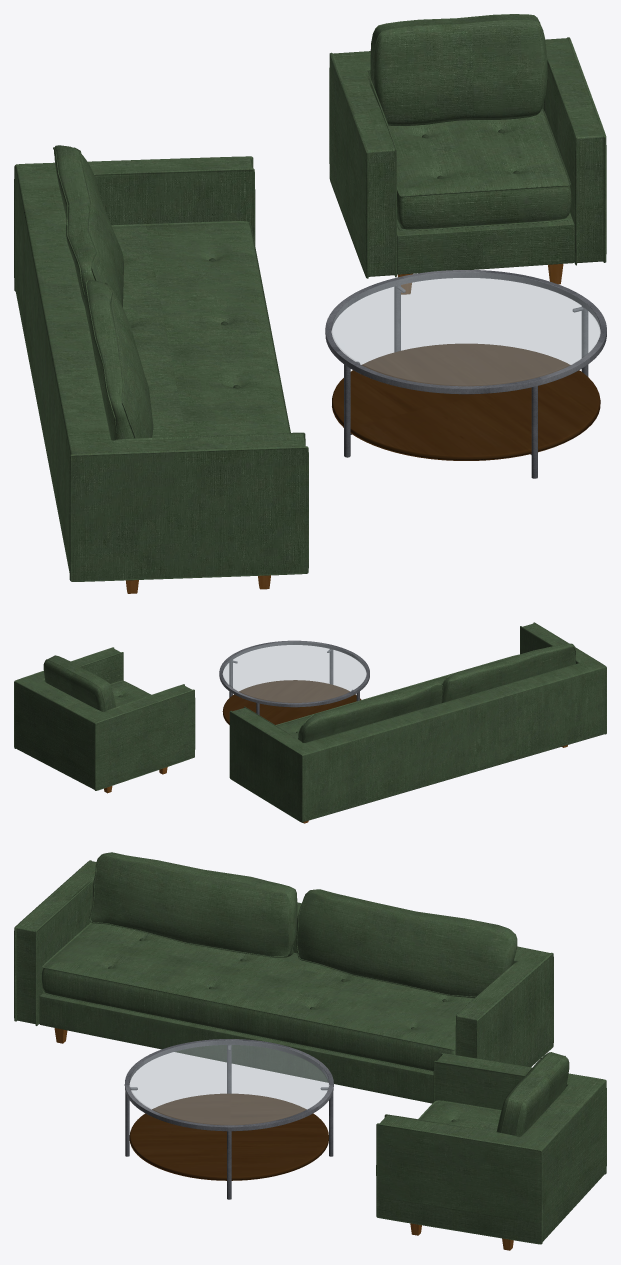
File: lounge_set.glb
3 renders of one model, top to bottom at view 1: azimuth 30°, elevation 25°; view 2: azimuth 150°, elevation 25°; view 3: azimuth 270°, elevation 25°, orthographic. The views are drawn at different scales.
Visible parts, largest first — view 1: pCube2_sofa_mat_0 (×2), pCube3_sofa_mat_0 (×2), coffeetable_toptable_mat_0, coffeetable_bottomtable_mat_0, pCube28_sofa_mat_0, coffeetable_frame_mat_0, pCube1_sofa_mat_0, pCube20_sofa_mat_0, pCube22_sofa_mat_0; view 2: pCube2_sofa_mat_0 (×2), coffeetable_toptable_mat_0, pCube22_sofa_mat_0, pCube20_sofa_mat_0, coffeetable_bottomtable_mat_0, pCube28_sofa_mat_0, coffeetable_frame_mat_0, pCube3_sofa_mat_0 (×2); view 3: pCube2_sofa_mat_0 (×2), pCube3_sofa_mat_0 (×2), pCube22_sofa_mat_0, pCube20_sofa_mat_0, coffeetable_toptable_mat_0, coffeetable_bottomtable_mat_0, pCube1_sofa_mat_0, coffeetable_frame_mat_0, pCube28_sofa_mat_0.
Part boxes in pixels (x1,y1,x2,y2): pCube2_sofa_mat_0 (×2): (14,37,606,581); pCube3_sofa_mat_0 (×2): (111,108,571,437); coffeetable_toptable_mat_0: (332,272,600,385); coffeetable_bottomtable_mat_0: (332,343,600,460); pCube28_sofa_mat_0: (370,14,547,125); coffeetable_frame_mat_0: (325,270,606,478); pCube1_sofa_mat_0: (397,212,574,274); pCube20_sofa_mat_0: (84,280,153,440); pCube22_sofa_mat_0: (53,145,123,307); pCube2_sofa_mat_0 (×2): (14,622,606,822); coffeetable_toptable_mat_0: (223,642,366,702); pCube22_sofa_mat_0: (298,681,443,742); pCube20_sofa_mat_0: (442,643,575,702); coffeetable_bottomtable_mat_0: (222,680,361,724); pCube28_sofa_mat_0: (43,655,115,711); coffeetable_frame_mat_0: (219,640,369,715); pCube3_sofa_mat_0 (×2): (110,654,518,738); pCube2_sofa_mat_0 (×2): (14,860,606,1244); pCube3_sofa_mat_0 (×2): (41,922,501,1131); pCube22_sofa_mat_0: (296,889,517,998); pCube20_sofa_mat_0: (89,852,297,957); coffeetable_toptable_mat_0: (130,1040,328,1124); coffeetable_bottomtable_mat_0: (129,1093,328,1180); pCube1_sofa_mat_0: (39,993,433,1103); coffeetable_frame_mat_0: (124,1039,333,1199); pCube28_sofa_mat_0: (496,1052,569,1136).
Bounding box in the file's own units: 4.84 × 1.2 × 4.17.
Materials: 6 (5 with a texture image).
